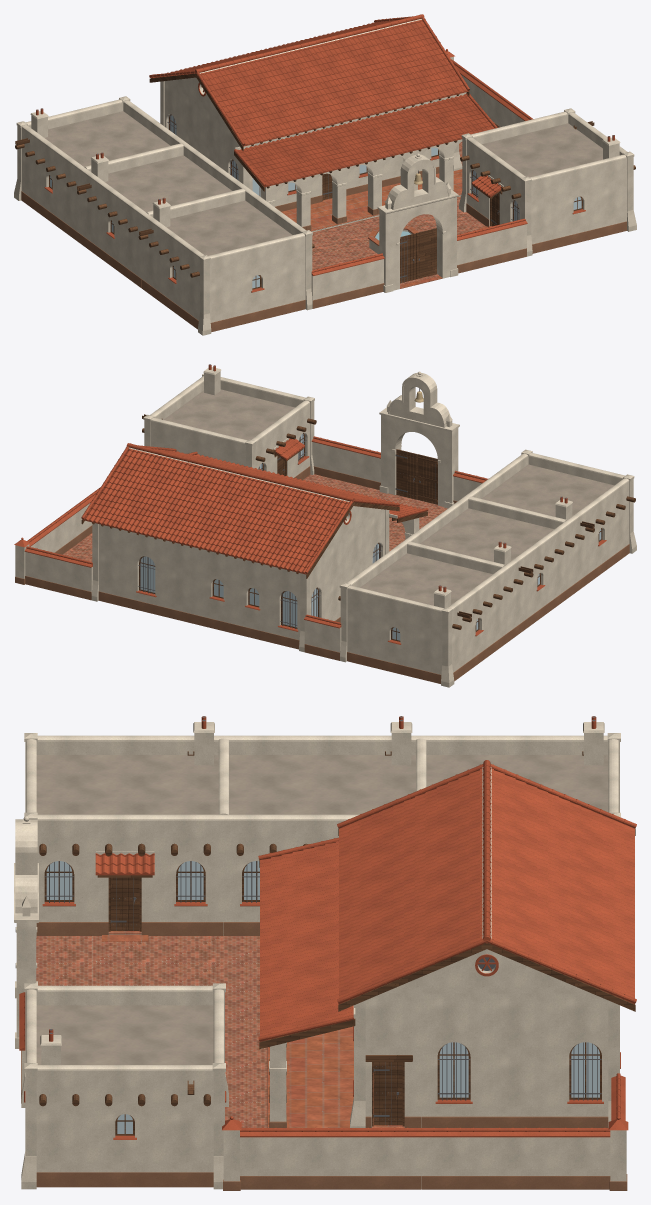
The model's file is building_assembled.glb.
3 renders of one model, top to bottom at view 1: azimuth 30°, elevation 25°; view 2: azimuth 150°, elevation 25°; view 3: azimuth 270°, elevation 25°, orthographic. The views are drawn at different scales.
Visible parts, largest first — view 1: building_render, building_tile_clay, building_roofdeck, building_plinth, building_wood, building_pavers, building_saltillo, building_glass, building_iron; view 2: building_render, building_tile_clay, building_roofdeck, building_plinth, building_wood, building_pavers, building_glass, building_iron; view 3: building_render, building_tile_clay, building_roofdeck, building_pavers, building_plinth, building_wood, building_saltillo, building_glass, building_iron.
Boxes of the visible parts, x1=… form: building_render: x1=14, y1=19, x2=636, y2=335; building_tile_clay: x1=36, y1=14, x2=614, y2=292; building_roofdeck: x1=45, y1=111, x2=602, y2=255; building_plinth: x1=21, y1=122, x2=626, y2=331; building_wood: x1=15, y1=73, x2=635, y2=289; building_pavers: x1=312, y1=141, x2=485, y2=285; building_saltillo: x1=281, y1=165, x2=491, y2=288; building_glass: x1=50, y1=115, x2=581, y2=288; building_iron: x1=167, y1=114, x2=519, y2=278; building_render: x1=15, y1=367, x2=636, y2=687; building_tile_clay: x1=14, y1=365, x2=606, y2=644; building_roofdeck: x1=163, y1=389, x2=613, y2=605; building_plinth: x1=15, y1=466, x2=629, y2=683; building_wood: x1=81, y1=414, x2=635, y2=641; building_pavers: x1=63, y1=474, x2=447, y2=561; building_glass: x1=140, y1=433, x2=601, y2=640; building_iron: x1=138, y1=388, x2=420, y2=628; building_render: x1=14, y1=722, x2=626, y2=1189; building_tile_clay: x1=19, y1=716, x2=636, y2=1139; building_roofdeck: x1=36, y1=755, x2=608, y2=1064; building_pavers: x1=36, y1=936, x2=267, y2=1127; building_plinth: x1=21, y1=922, x2=627, y2=1190; building_wood: x1=39, y1=751, x2=635, y2=1135; building_saltillo: x1=102, y1=931, x2=404, y2=1127; building_glass: x1=46, y1=861, x2=599, y2=1133; building_iron: x1=45, y1=861, x2=601, y2=1119.
Size of the model in its own units: 25.4 by 6.85 by 18.94.
Materials: 16 (9 with a texture image).
